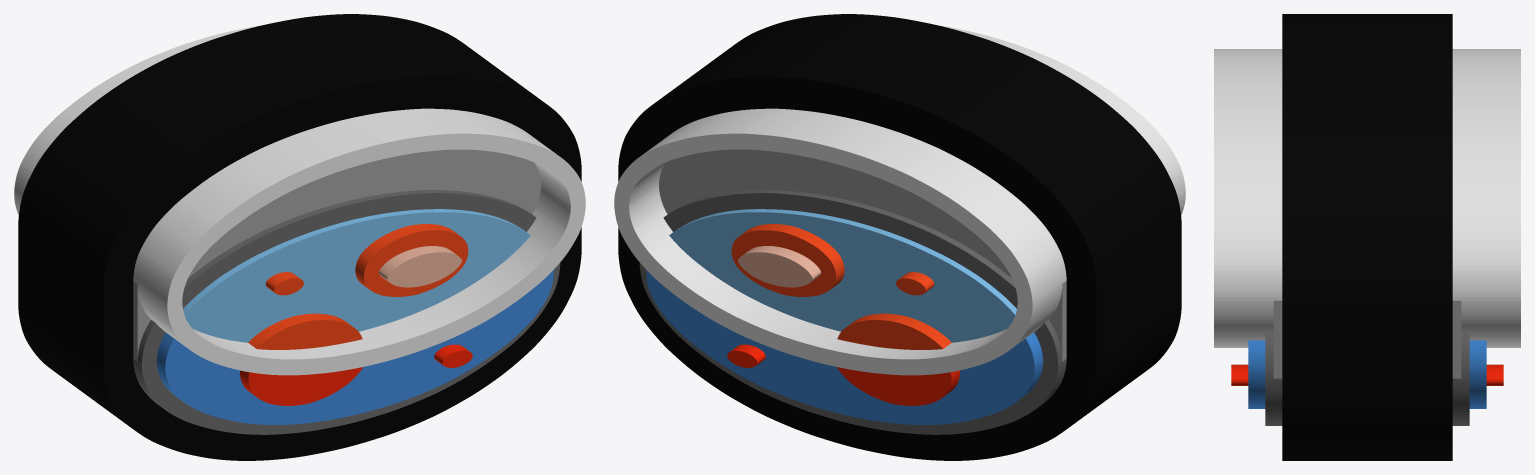
3 views of the same model, side by side, from view 1: azimuth 30°, elevation 25°; view 2: azimuth 150°, elevation 25°; view 3: azimuth 270°, elevation 25° (orthographic).
Parts seen in each view (by area): view 1: U+1F9EB_layer00_obj00, U+1F9EB_layer08_obj00, U+1F9EB_layer03_obj00, U+1F9EB_layer04_obj00, U+1F9EB_layer02_obj00, U+1F9EB_layer01_obj00, U+1F9EB_layer05_obj00, U+1F9EB_layer06_obj00, U+1F9EB_layer07_obj00; view 2: U+1F9EB_layer00_obj00, U+1F9EB_layer08_obj00, U+1F9EB_layer03_obj00, U+1F9EB_layer04_obj00, U+1F9EB_layer02_obj00, U+1F9EB_layer01_obj00, U+1F9EB_layer05_obj00, U+1F9EB_layer06_obj00, U+1F9EB_layer07_obj00; view 3: U+1F9EB_layer00_obj00, U+1F9EB_layer08_obj00, U+1F9EB_layer02_obj00, U+1F9EB_layer04_obj00, U+1F9EB_layer01_obj00, U+1F9EB_layer06_obj00.
Part boxes in pixels (left/top/right/bottom): U+1F9EB_layer00_obj00: left=18, top=14, right=581, bottom=460; U+1F9EB_layer08_obj00: left=14, top=25, right=585, bottom=375; U+1F9EB_layer03_obj00: left=183, top=209, right=530, bottom=342; U+1F9EB_layer04_obj00: left=156, top=270, right=553, bottom=424; U+1F9EB_layer02_obj00: left=133, top=190, right=560, bottom=434; U+1F9EB_layer01_obj00: left=133, top=149, right=540, bottom=361; U+1F9EB_layer05_obj00: left=248, top=224, right=468, bottom=349; U+1F9EB_layer06_obj00: left=240, top=344, right=472, bottom=405; U+1F9EB_layer07_obj00: left=378, top=246, right=461, bottom=287; U+1F9EB_layer00_obj00: left=618, top=14, right=1181, bottom=460; U+1F9EB_layer08_obj00: left=614, top=25, right=1185, bottom=375; U+1F9EB_layer03_obj00: left=669, top=209, right=1016, bottom=342; U+1F9EB_layer04_obj00: left=646, top=270, right=1043, bottom=424; U+1F9EB_layer02_obj00: left=639, top=190, right=1066, bottom=434; U+1F9EB_layer01_obj00: left=659, top=149, right=1066, bottom=361; U+1F9EB_layer05_obj00: left=731, top=224, right=951, bottom=349; U+1F9EB_layer06_obj00: left=727, top=344, right=959, bottom=405; U+1F9EB_layer07_obj00: left=738, top=246, right=821, bottom=287; U+1F9EB_layer00_obj00: left=1282, top=14, right=1452, bottom=460; U+1F9EB_layer08_obj00: left=1214, top=49, right=1520, bottom=347; U+1F9EB_layer02_obj00: left=1265, top=333, right=1469, bottom=425; U+1F9EB_layer04_obj00: left=1248, top=340, right=1486, bottom=408; U+1F9EB_layer01_obj00: left=1273, top=300, right=1461, bottom=378; U+1F9EB_layer06_obj00: left=1231, top=364, right=1503, bottom=385.
Size of the model in its own units: 0.6491 by 0.4664 by 0.36.
